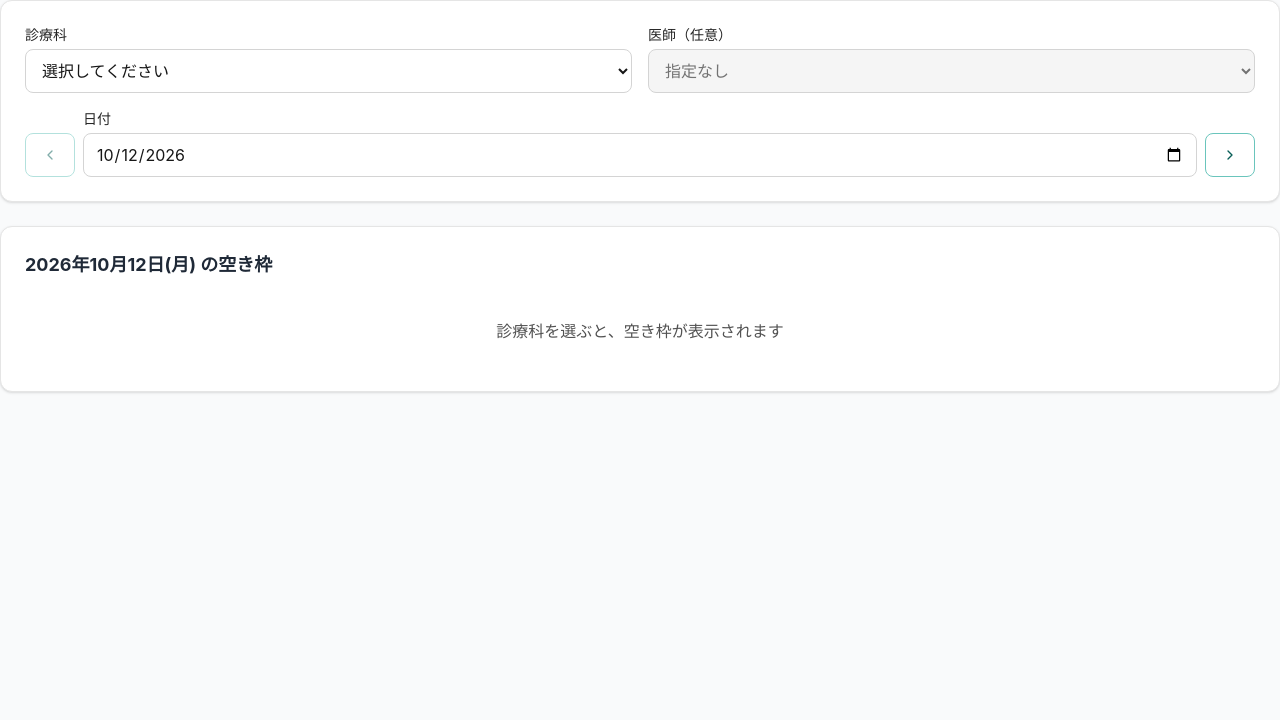
BookingFlow（予約の流れ） › 予約の確定 › ログイン済みなら診療科・日時を確認して、来院区分を選んで確定できる
The image size is (1280, 720).
Select "内科" in the dropdown labelled "診療科" at (328, 71), box [25, 49, 632, 93]
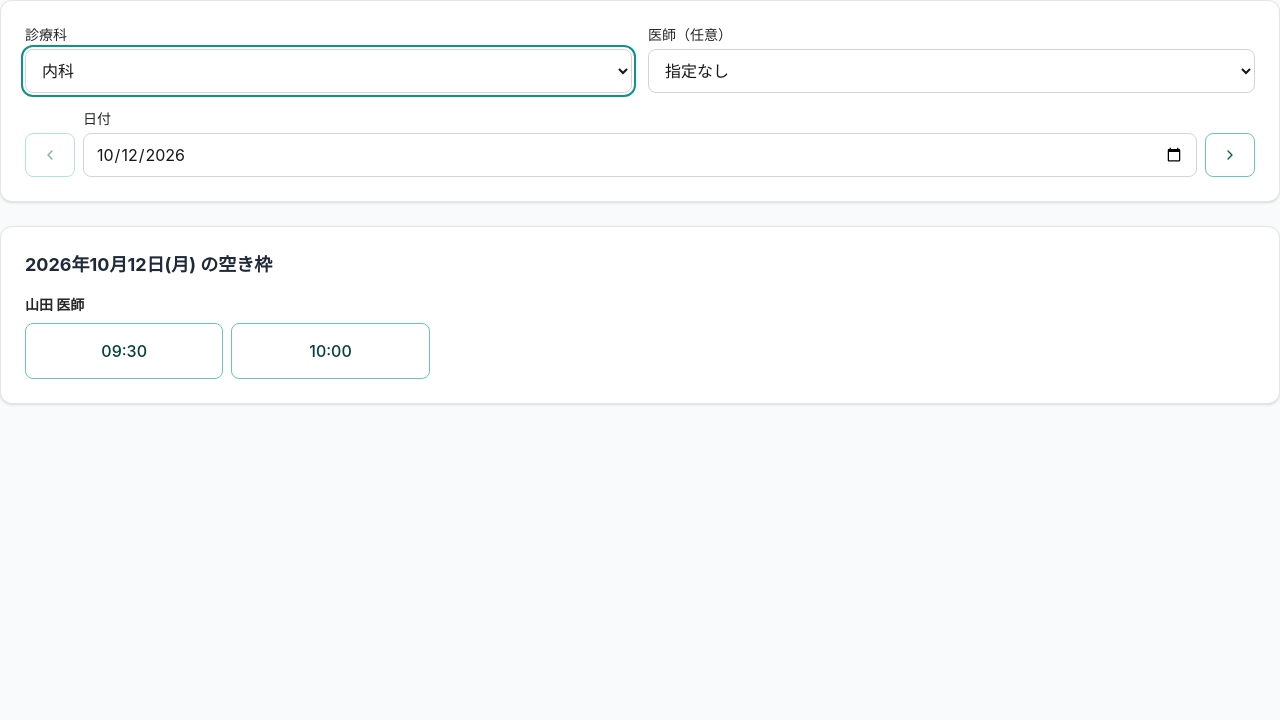
Click the button "09:30" at (124, 351), box [25, 323, 223, 379]
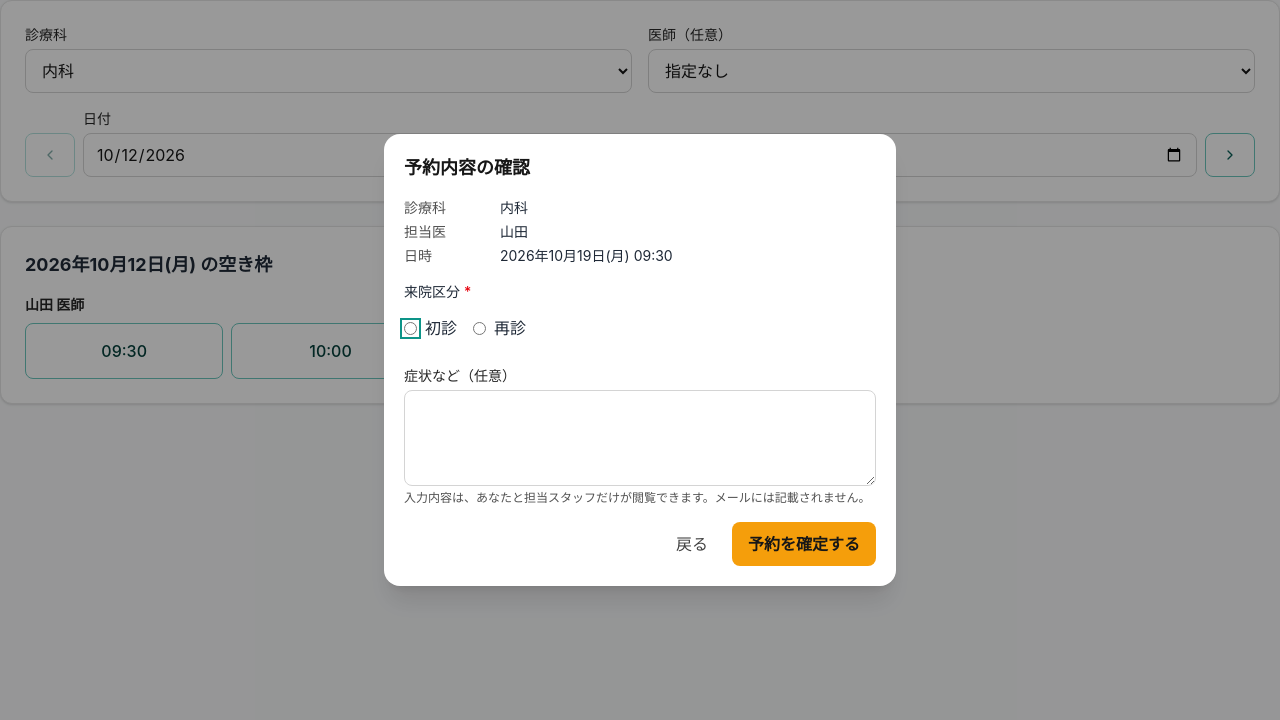
Now the dialog shows "内科", box [500, 199, 528, 216]
Now the dialog shows "山田", box [500, 223, 528, 240]
Now the dialog shows "09:30", box [634, 247, 673, 264]
Click the radio button labelled "再診" at (480, 328), box [473, 322, 486, 334]
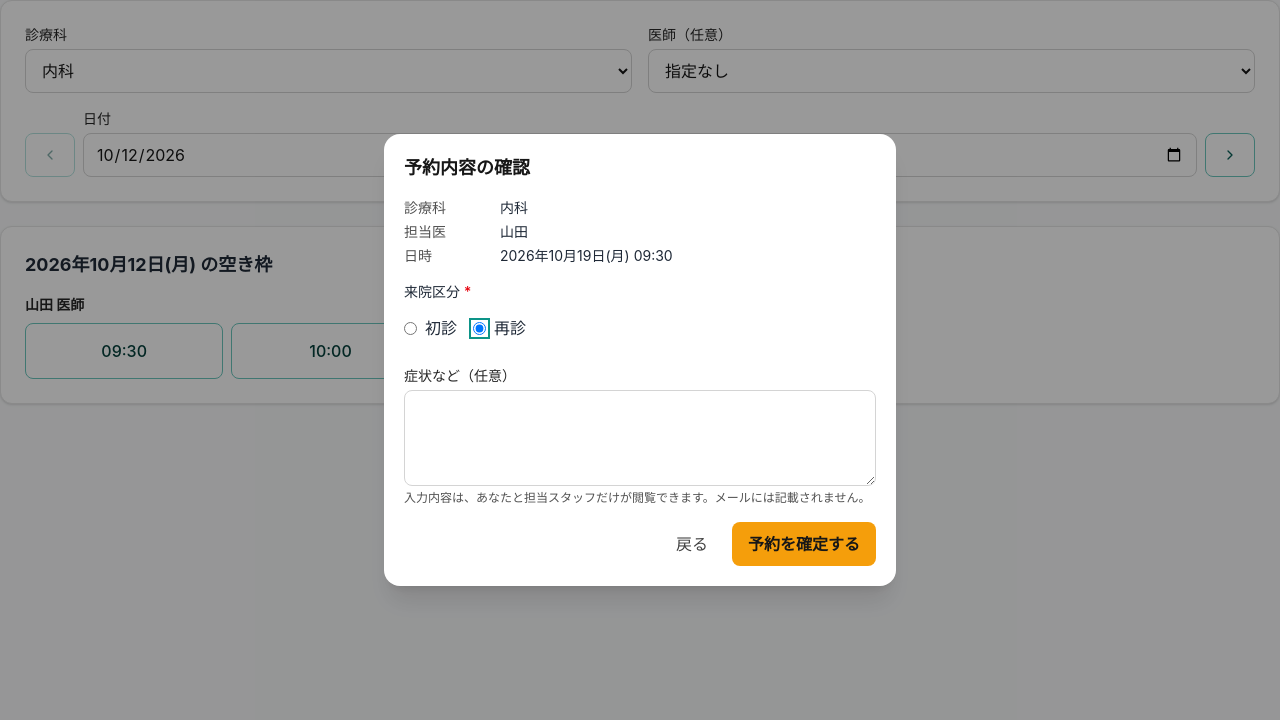
Type "3日前から咳" into the text box labelled "症状など（任意）" at (640, 438), box [404, 390, 876, 486]
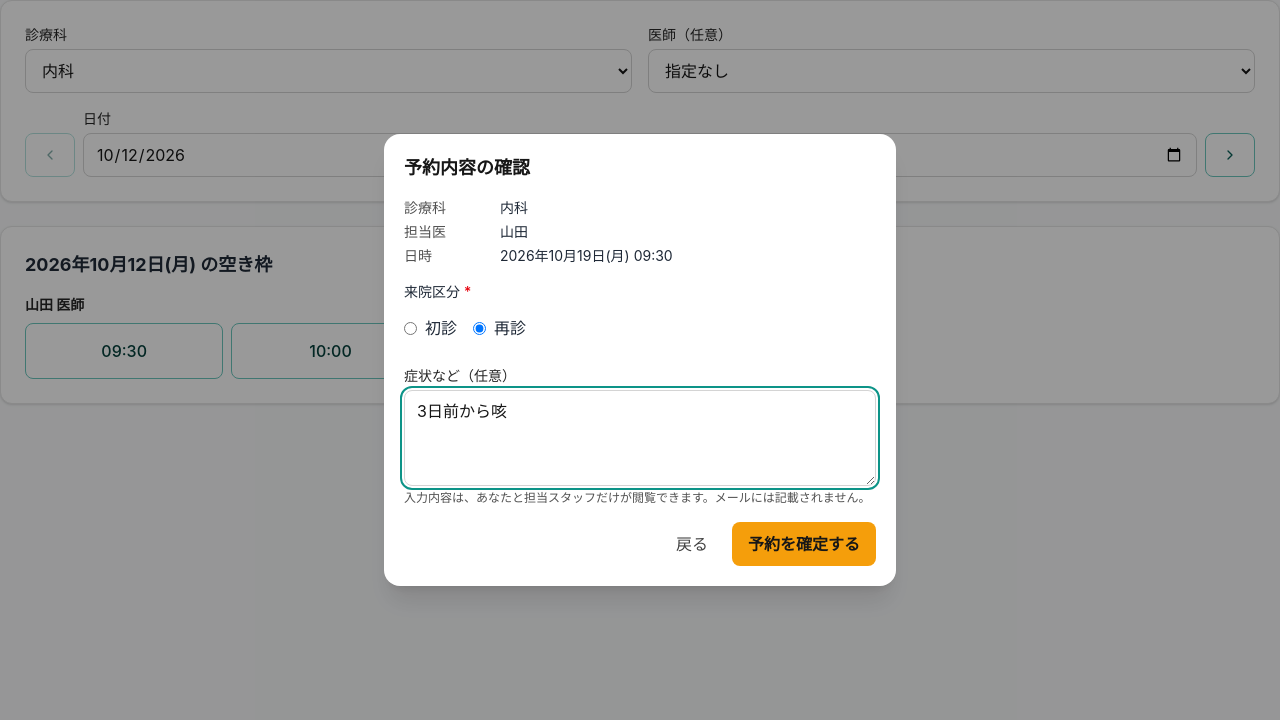
Click the button "予約を確定する" at (804, 544), box [732, 522, 876, 566]
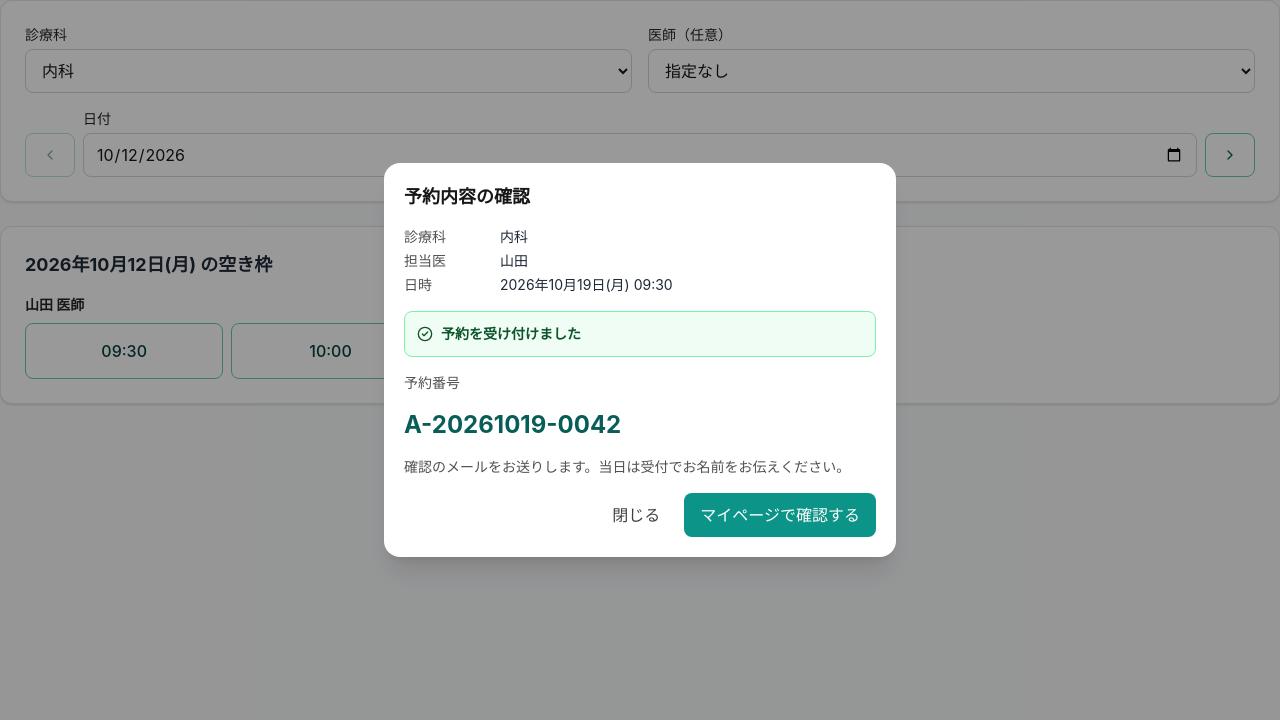
Now the text "予約を受け付けました" is shown, box [441, 325, 581, 342]
Now the text "A-20261019-0042" is shown, box [404, 410, 621, 439]
